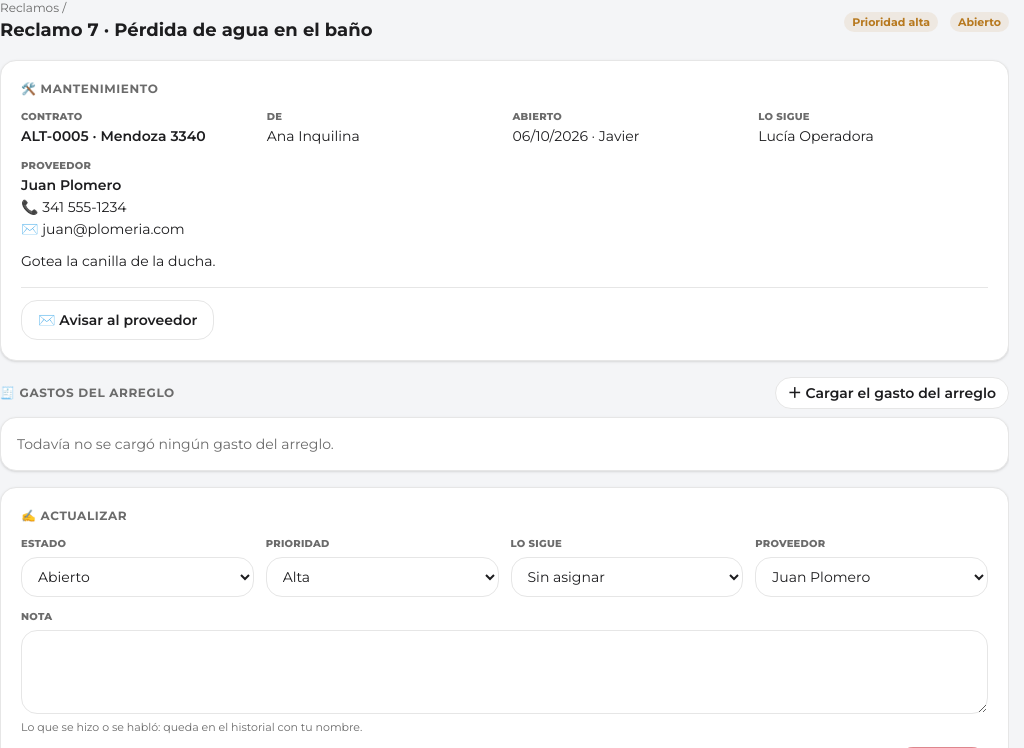
Test: Reclamos · el circuito del reclamo (reglas 67 a 73) › regla 73: «Avisar al proveedor» abre el mail redactado y no manda nada hasta «Enviar»
Click the button "✉️ Avisar al proveedor".
click(118, 320)  # box [21,300,214,340]
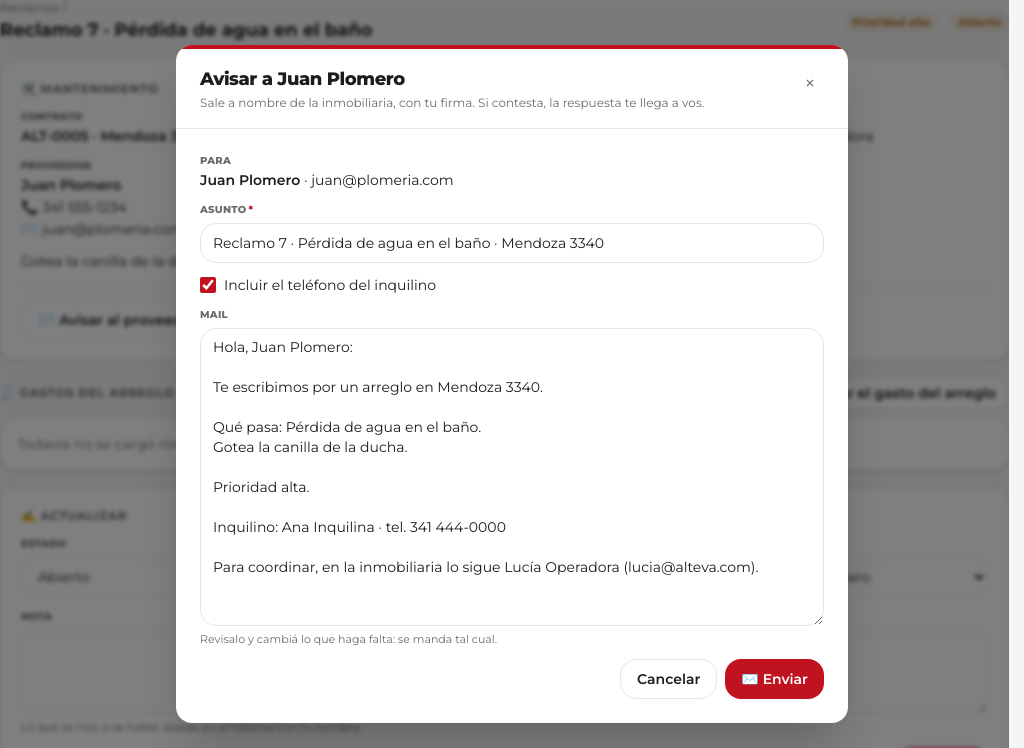
Check: the field labelled "Asunto*" holds "Reclamo 7 · Pérdida de agua en el baño · Mendoza 3340", box [200,223,824,263]
Check: the checkbox labelled "Incluir el teléfono del inquilino" is checked
Click the checkbox labelled "Incluir el teléfono del inquilino".
click(208, 285)  # box [200,277,216,293]
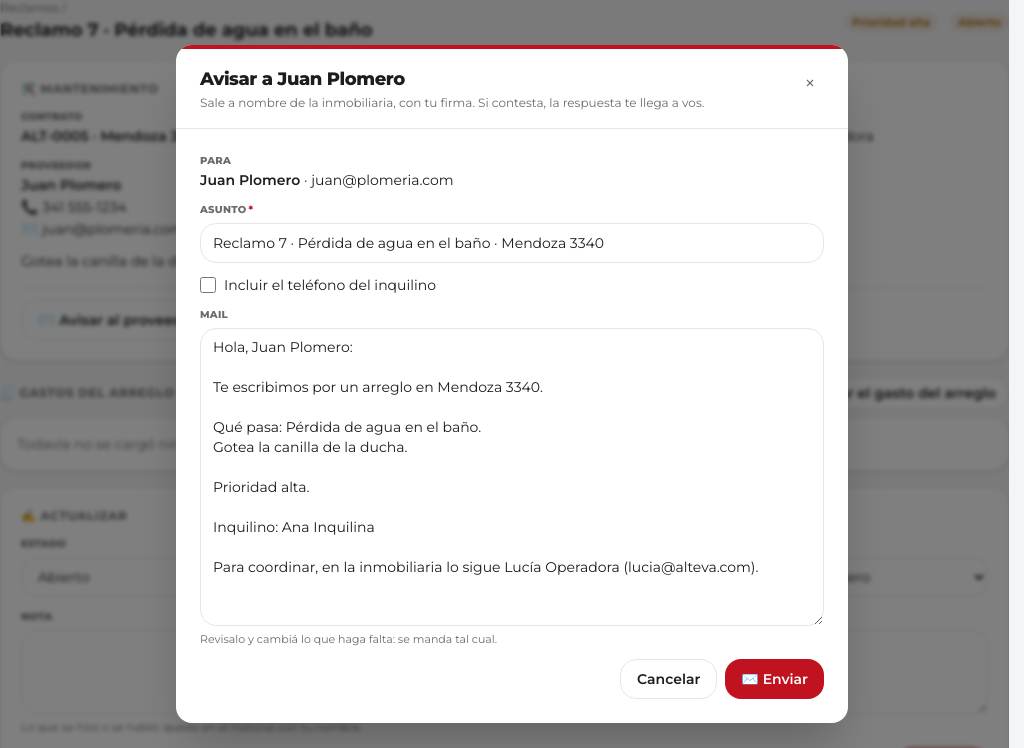
Click the button "✉️ Enviar".
click(775, 679)  # box [725,659,824,699]
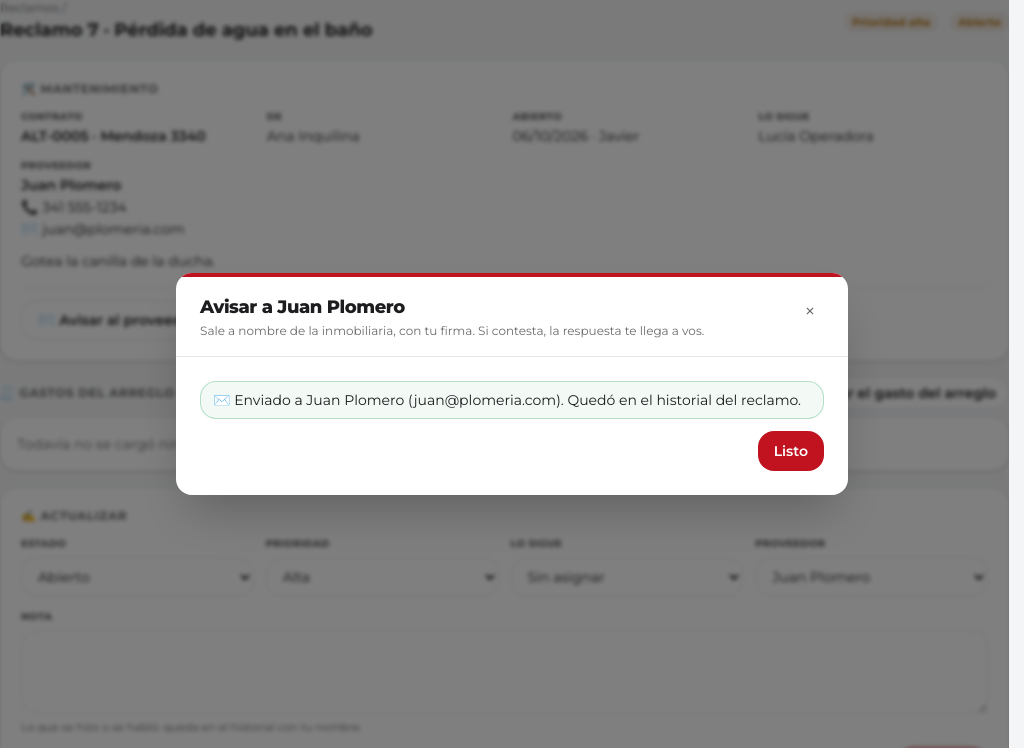
Check: the message shows "Enviado a Juan Plomero (juan@plomeria.com)", box [200,381,824,419]
